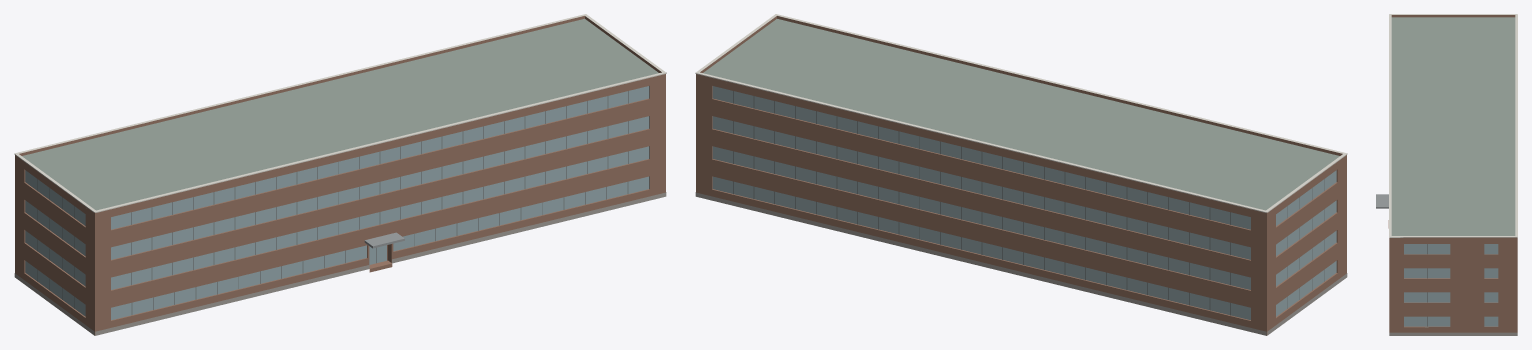
The picture shows the model from 3 angles, left to right: view 1: azimuth 30°, elevation 25°; view 2: azimuth 150°, elevation 25°; view 3: azimuth 270°, elevation 25°; orthographic projection. The views are drawn at different scales.
Parts seen in each view (by area): view 1: b981579190__wall, b981579190__roof, b981579190__glass, b981579190__parapet, b981579190__trim, b981579190__base, b981579190__frame; view 2: b981579190__wall, b981579190__roof, b981579190__glass, b981579190__parapet, b981579190__trim, b981579190__base, b981579190__frame; view 3: b981579190__roof, b981579190__wall, b981579190__glass, b981579190__trim, b981579190__parapet, b981579190__base, b981579190__canopy.
Boxes of the visible parts, x1,y1,x2,y2 form: b981579190__wall: (15, 76, 665, 335); b981579190__roof: (22, 18, 658, 210); b981579190__glass: (25, 86, 649, 320); b981579190__parapet: (15, 16, 665, 214); b981579190__trim: (14, 14, 666, 212); b981579190__base: (14, 192, 666, 335); b981579190__frame: (37, 91, 628, 314); b981579190__wall: (696, 76, 1346, 335); b981579190__roof: (703, 19, 1339, 210); b981579190__glass: (712, 86, 1336, 320); b981579190__parapet: (696, 16, 1346, 214); b981579190__trim: (695, 14, 1347, 212); b981579190__base: (695, 192, 1347, 335); b981579190__frame: (733, 91, 1324, 315); b981579190__roof: (1391, 17, 1515, 327); b981579190__wall: (1389, 239, 1517, 332); b981579190__glass: (1404, 244, 1498, 326); b981579190__trim: (1389, 14, 1517, 237); b981579190__parapet: (1389, 15, 1517, 239); b981579190__base: (1389, 332, 1517, 335); b981579190__canopy: (1376, 194, 1388, 208).
Size of the model in its own units: 71.39 by 15.15 by 19.18.
